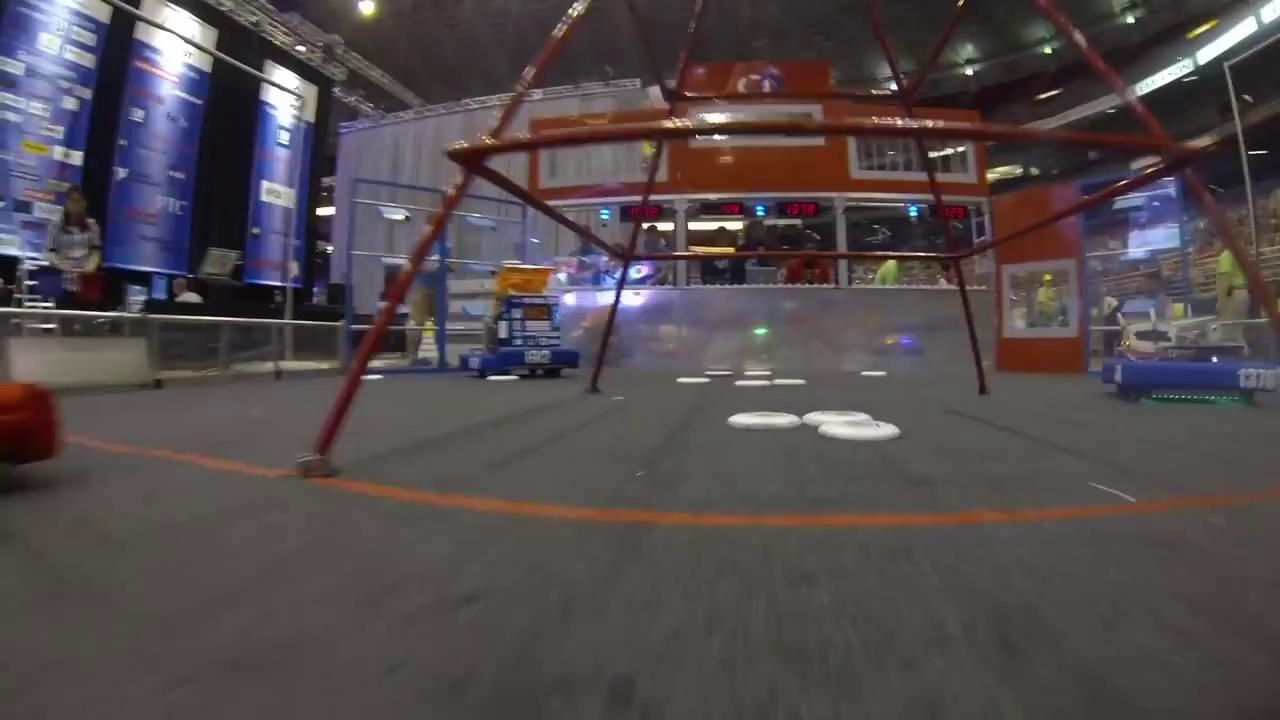robot: (1104, 288, 1280, 410), (456, 256, 586, 382)
